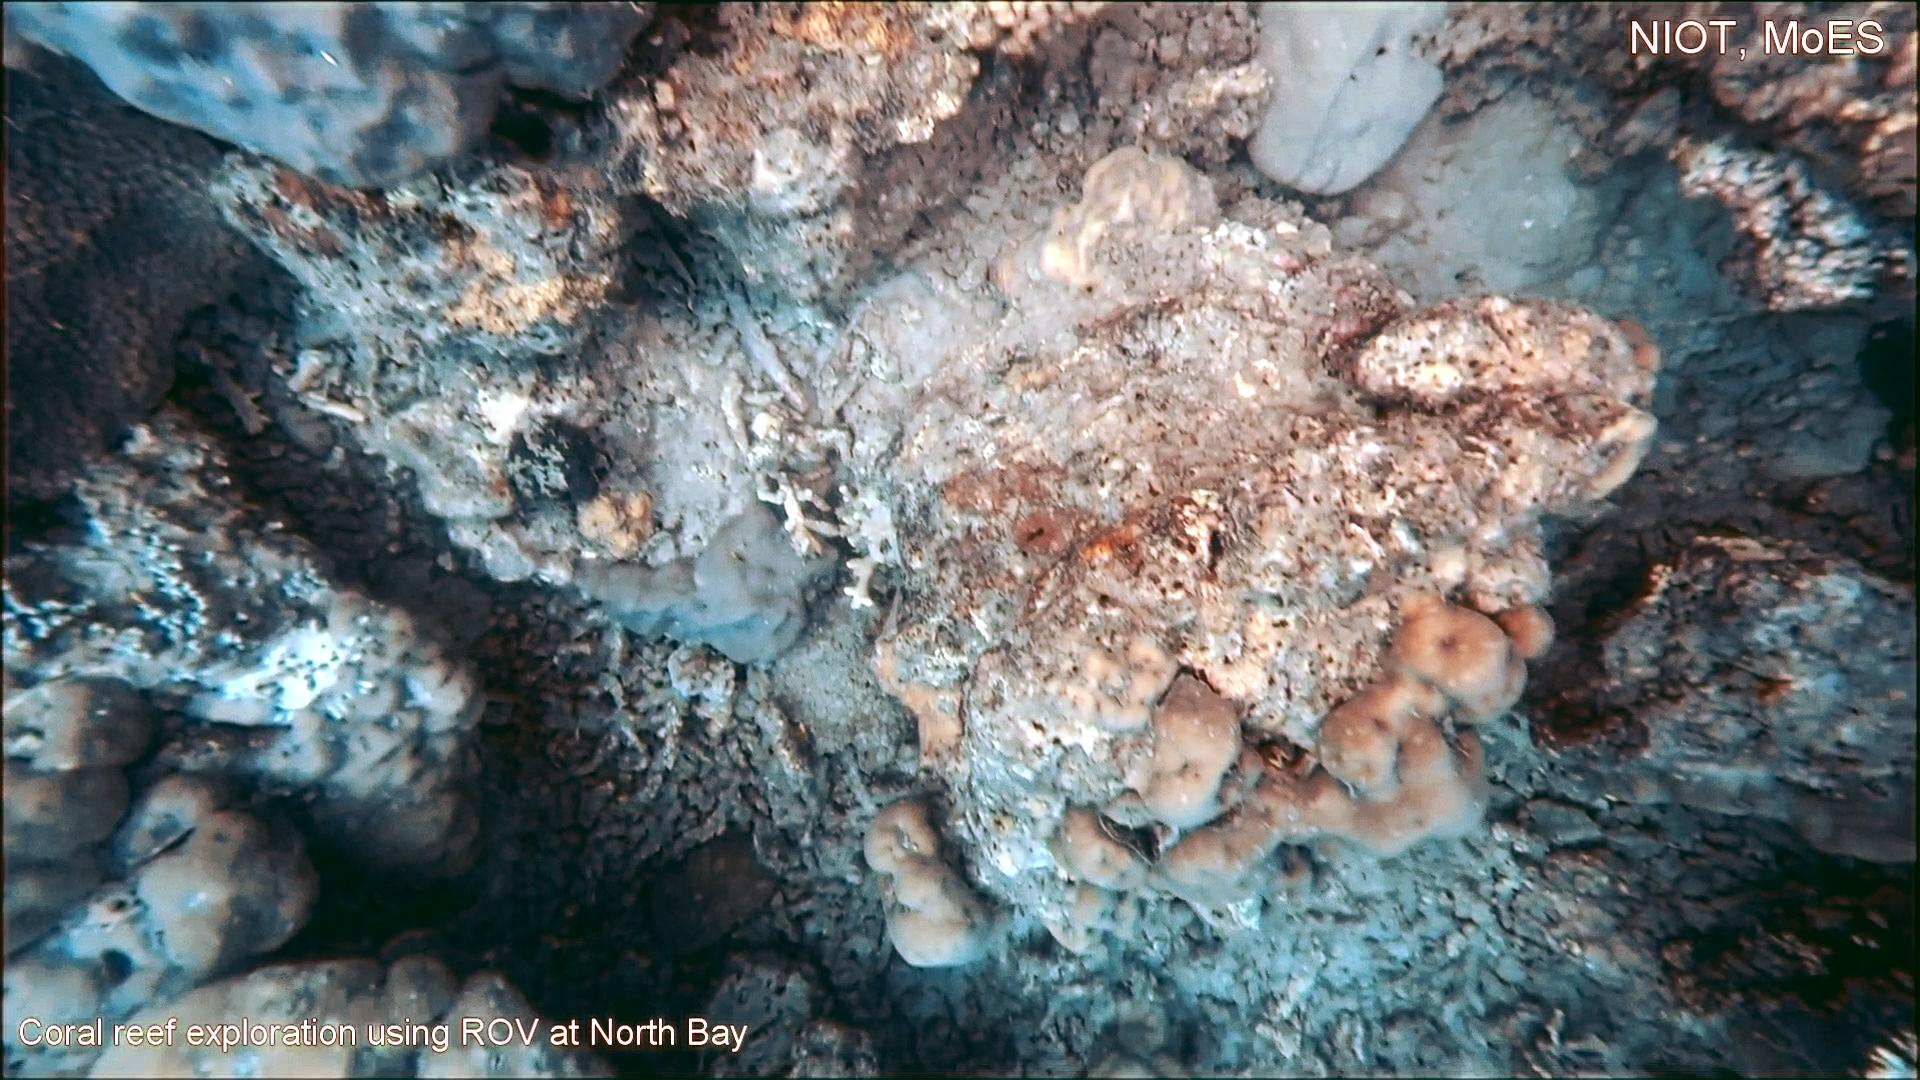Lobophyllia: (942, 0, 1116, 66)
